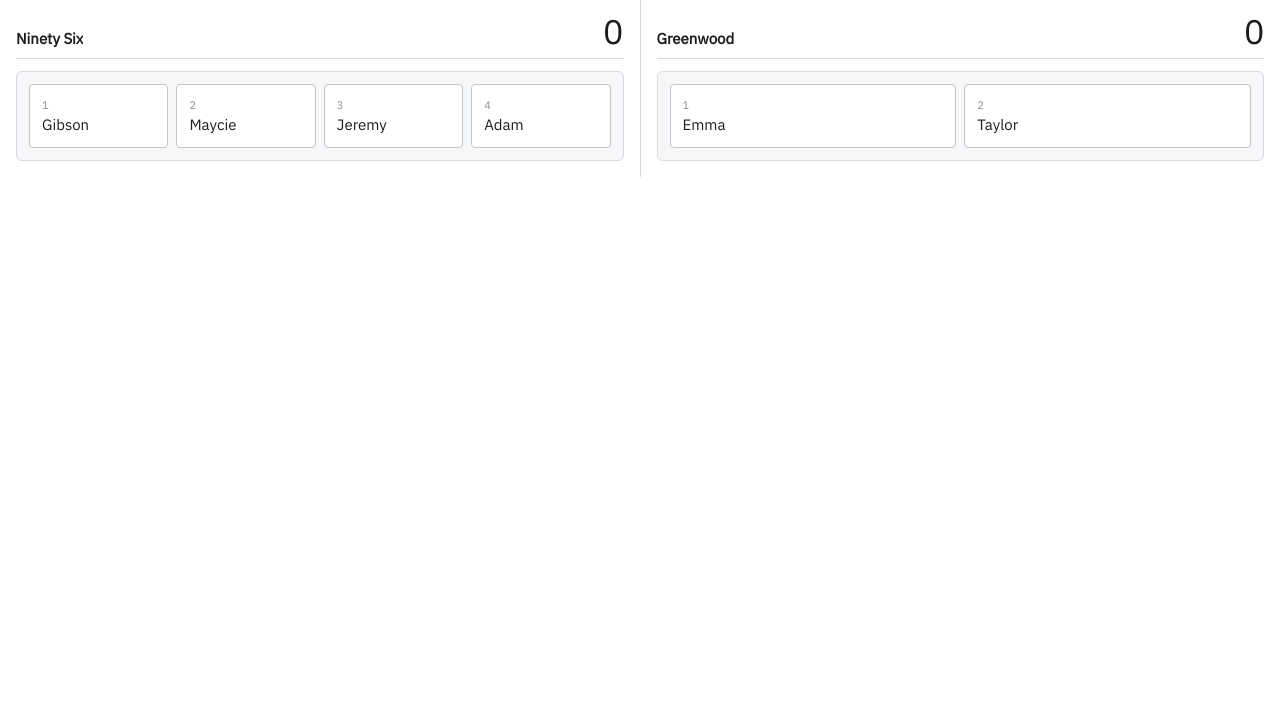
Test case: the ruling picker › Escape closes it and puts the scorekeeper back on the chair they opened
Step 1. Click the button "2 Maycie" → (246, 116), box top-left (176, 84), bottom-right (316, 148)
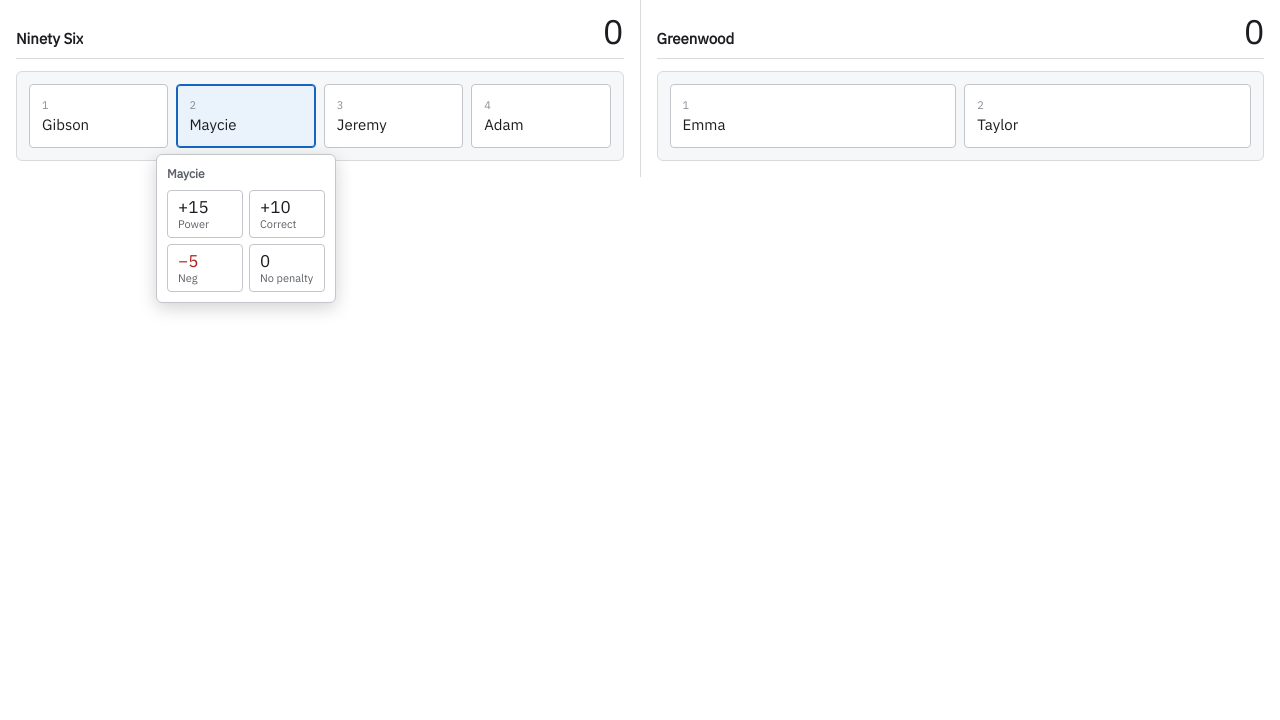
Step 2. Press Escape
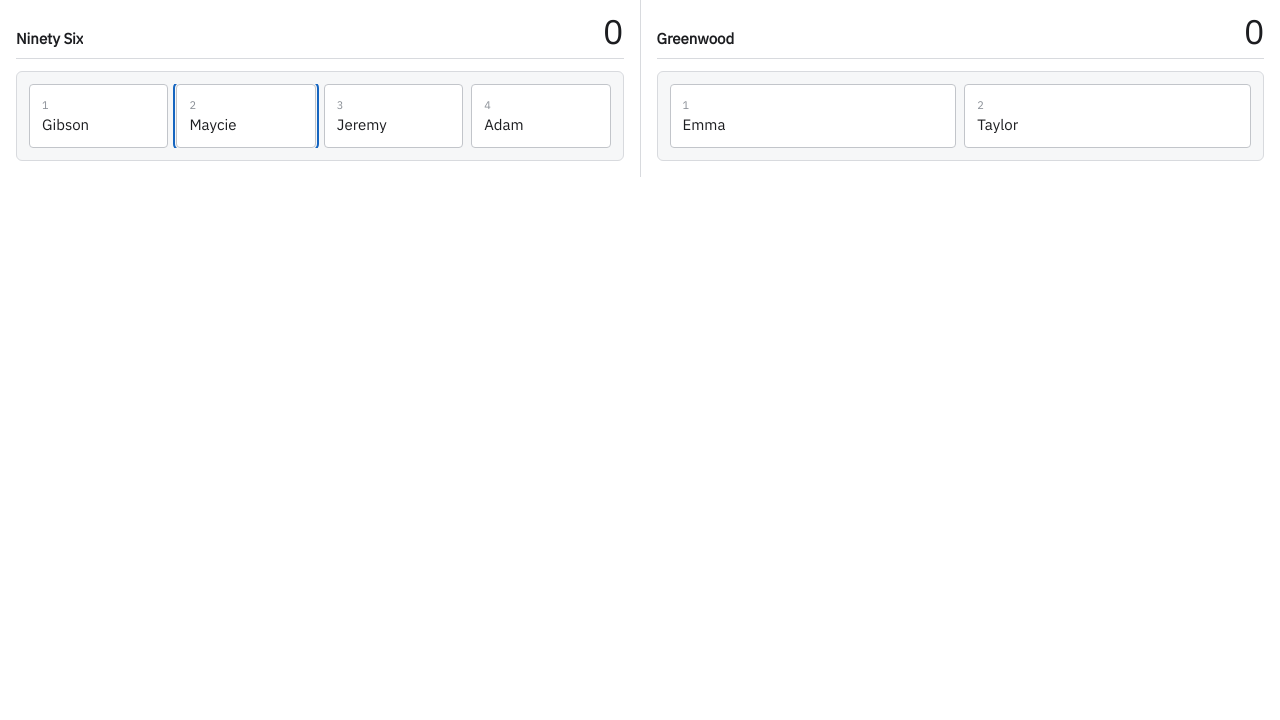
expect the dialog is gone: met
